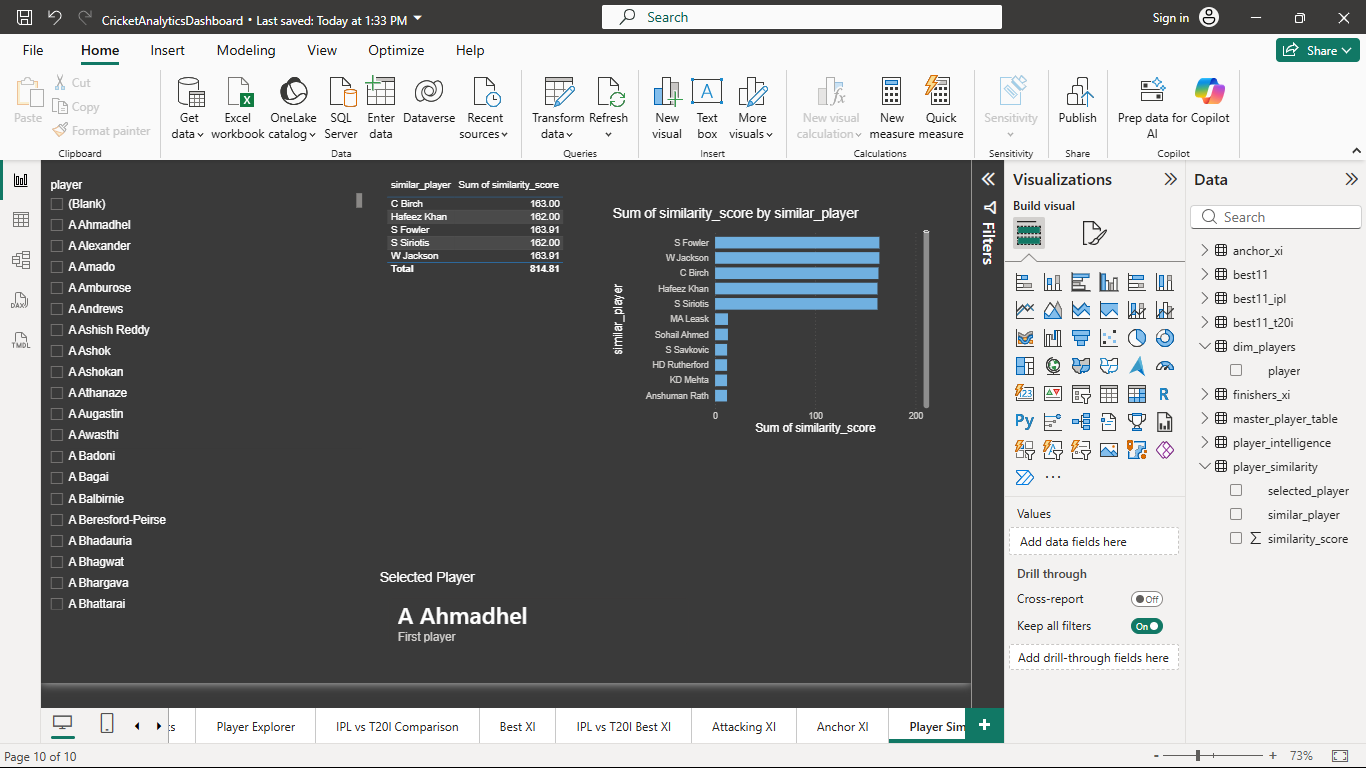

What the dashboard file says about the page in this screenshot:
{"tool":"powerbi","page":{"name":"Player Similarity Engine","canvas":[1280,720],"ordinal":9},"visuals":[{"type":"slicer","fields":{"Values":["dim_players.player"]},"box":[0,20.2,446.8,603],"z":0},{"type":"tableEx","fields":{"Values":["player_similarity.similar_player","Sum(player_similarity.similarity_score)"]},"box":[470.7,20.6,214.7,165.2],"z":1000},{"type":"cardVisual","title":"Selected Player","fields":{"Data":["Min(dim_players.player)"]},"box":[461.1,545,447.3,118.4],"z":2000},{"type":"barChart","title":"Similarity Map","fields":{"Category":["player_similarity.similar_player"],"Y":["Sum(player_similarity.similarity_score)"]},"box":[701.9,20.6,445.9,378.5],"z":3000}]}

Visuals, with their boxes on the page's 1280x720 design canvas (x1, y1, x2, y2). These are canvas units, not pixel positions in the 1366x768 screenshot, which may show the page scaled, cropped or inside an application window:
slicer - dim_players.player: [left=0, top=20, right=447, bottom=623]
tableEx - player_similarity.similar_player x Sum(player_similarity.similarity_score): [left=471, top=21, right=685, bottom=186]
"Selected Player" cardVisual: [left=461, top=545, right=908, bottom=663]
"Similarity Map" barChart: [left=702, top=21, right=1148, bottom=399]
